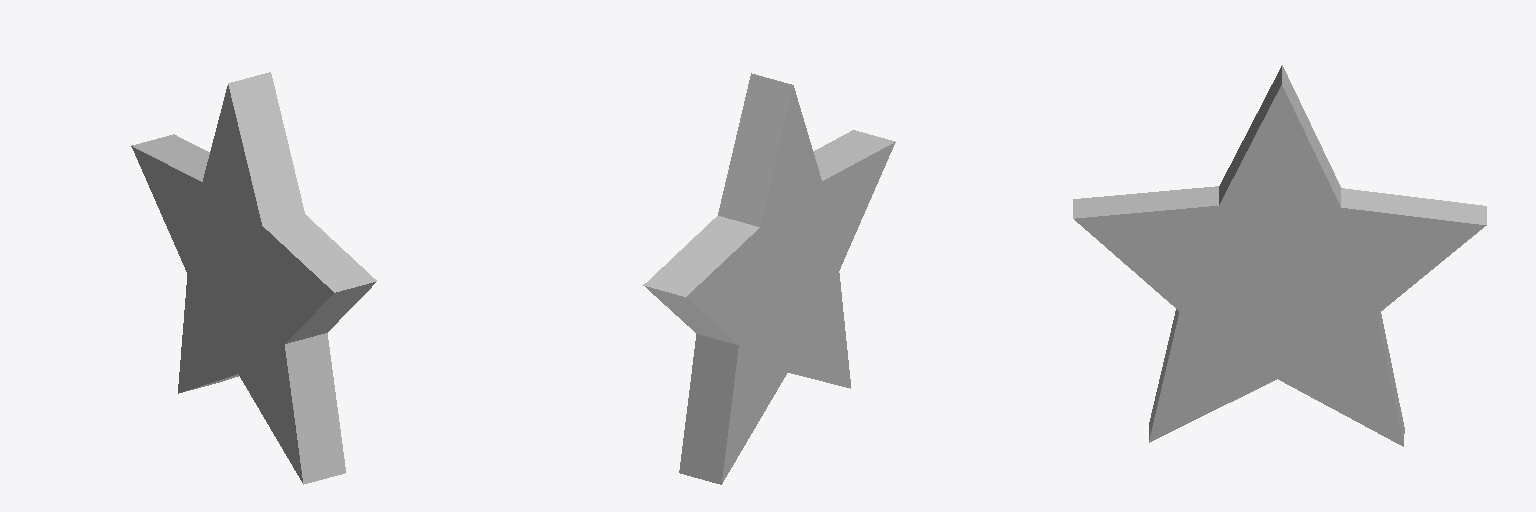
File: star.obj
The picture shows the model from 3 angles: view 1: azimuth 30°, elevation 25°; view 2: azimuth 150°, elevation 25°; view 3: azimuth 270°, elevation 25°; orthographic projection.
Parts seen in each view (by area): view 1: Star.s; view 2: Star.s; view 3: Star.s.
Part boxes in pixels (left/top/right/bottom): Star.s: left=131, top=72, right=376, bottom=484; Star.s: left=643, top=73, right=895, bottom=484; Star.s: left=1073, top=65, right=1486, bottom=446.
Size of the model in its own units: 2.14 by 13.7 by 14.32.